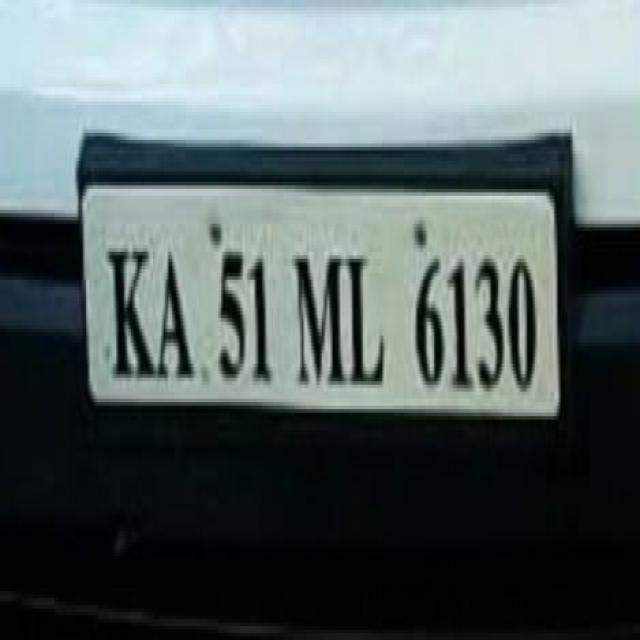0: (508, 240, 542, 396)
1: (242, 228, 278, 392), (446, 246, 476, 402)
3: (472, 250, 510, 415)
5: (216, 238, 248, 386)
A: (154, 216, 199, 394)
K: (102, 218, 158, 390)
L: (346, 244, 394, 398)
M: (290, 235, 348, 399)
